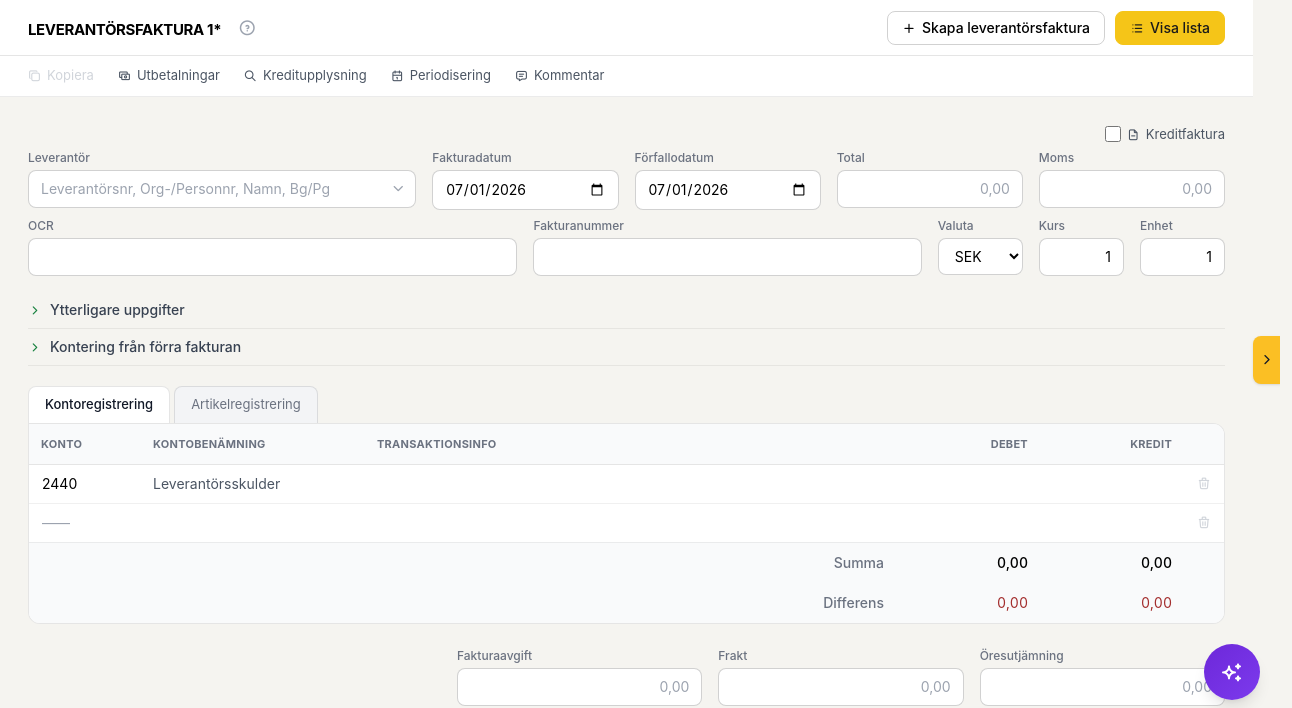
Scenario: Kontering från förra fakturan › leverantör utan historik → "Ingen tidigare kontering hittades"
Focus the field with id "lev-leverantor" at (222, 189), box [28,170,416,208]
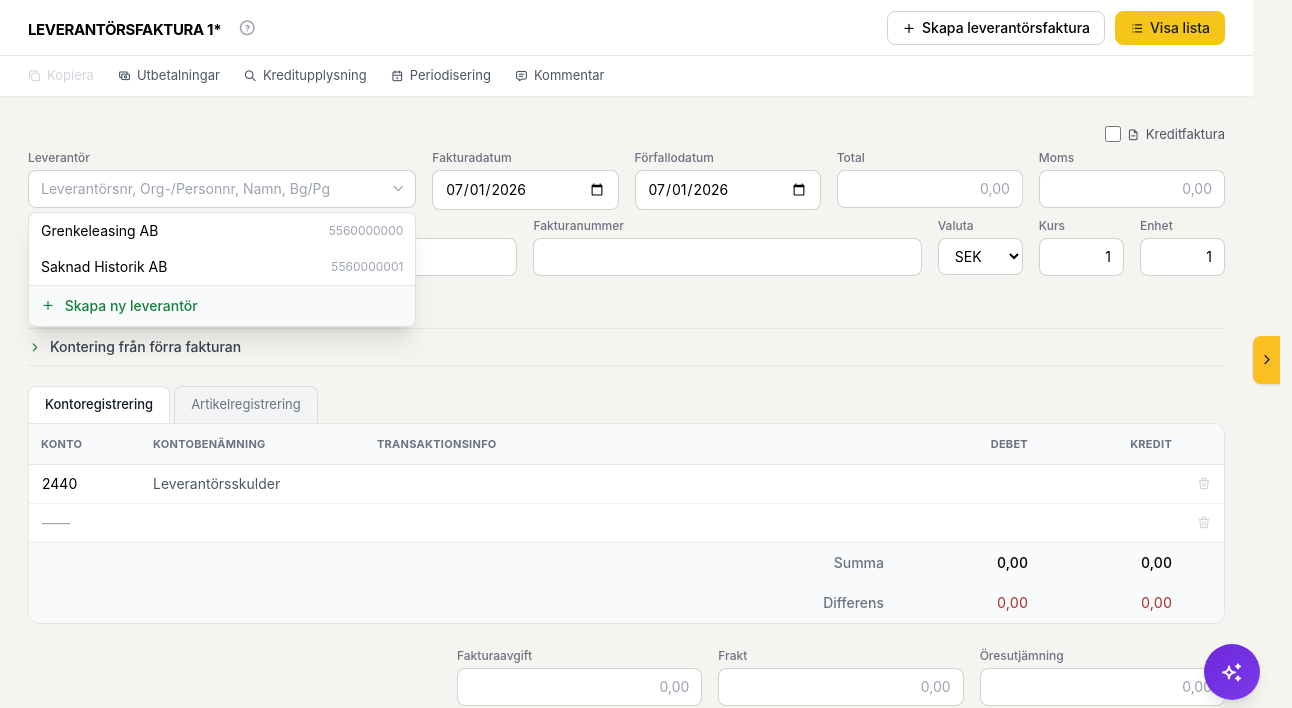
Press the mouse on the text "Saknad Historik AB" at (104, 267), box [41,257,167,277]
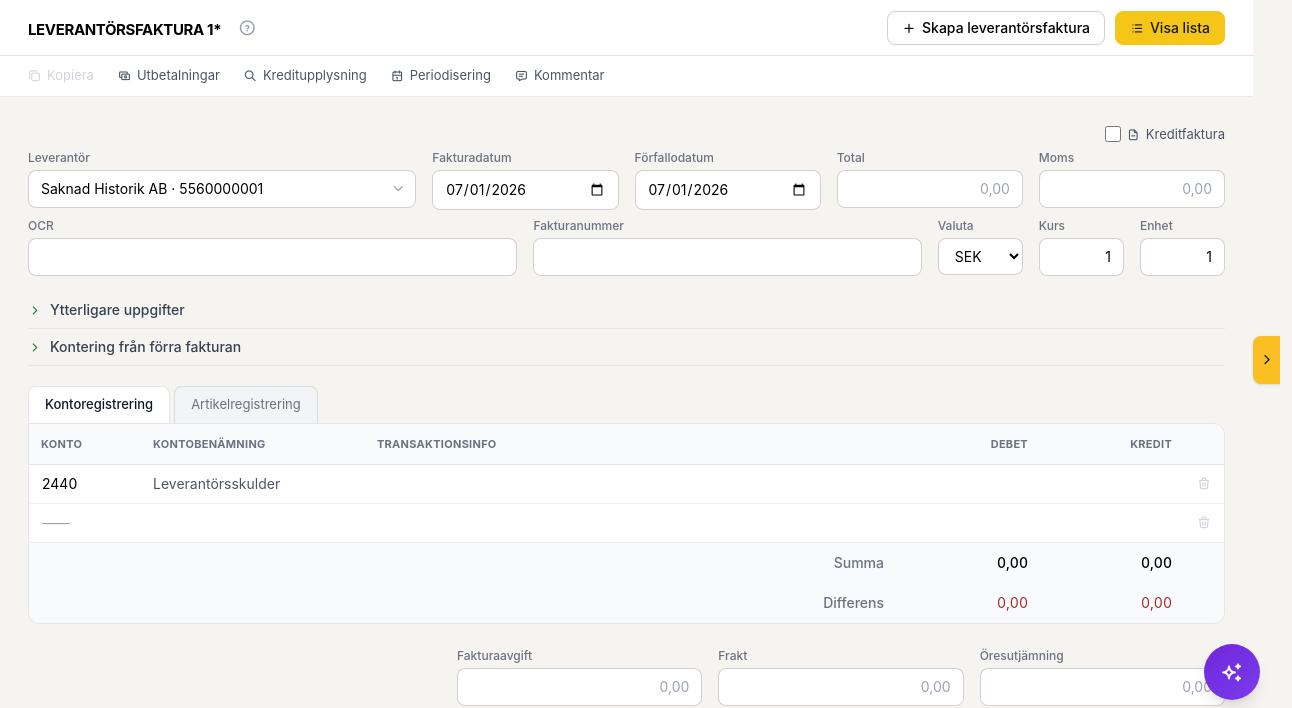
Click the button "Kontering från förra fakturan" at (146, 346), box [28,329,1225,365]
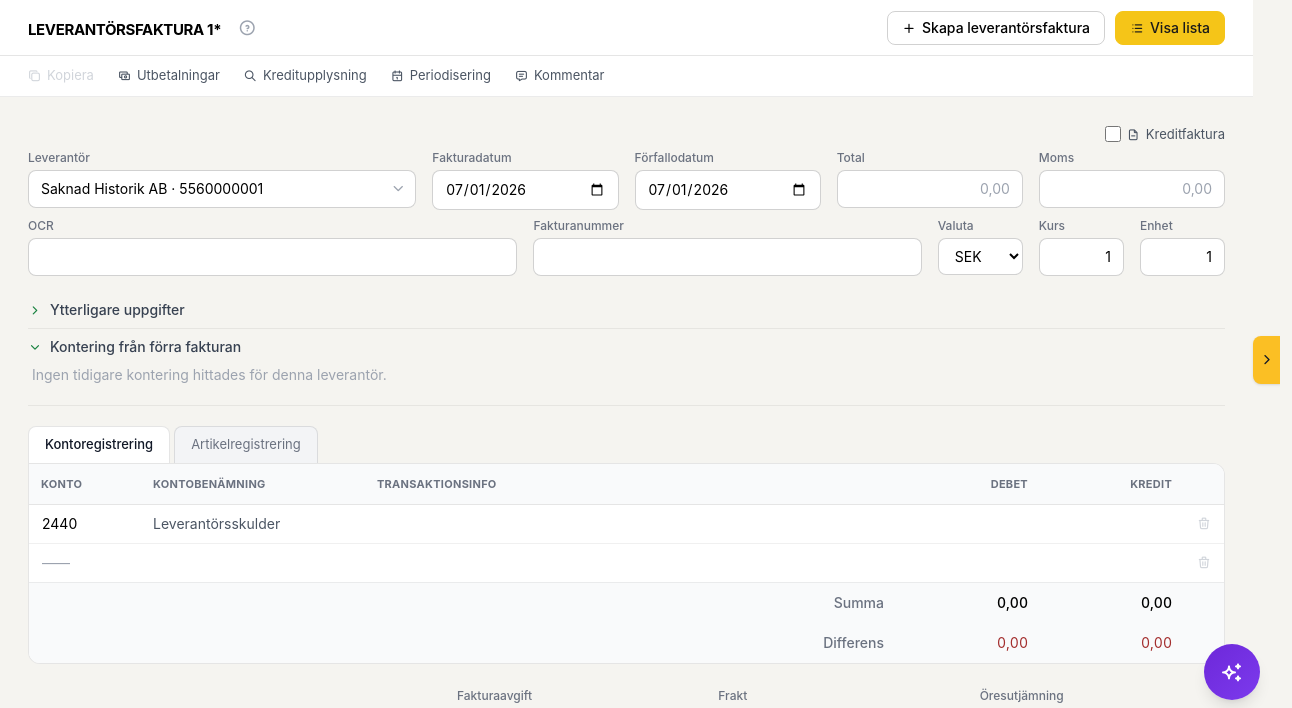
Check: the text "Ingen tidigare kontering hittades för denna leverantör." is shown, box [32,366,387,383]
